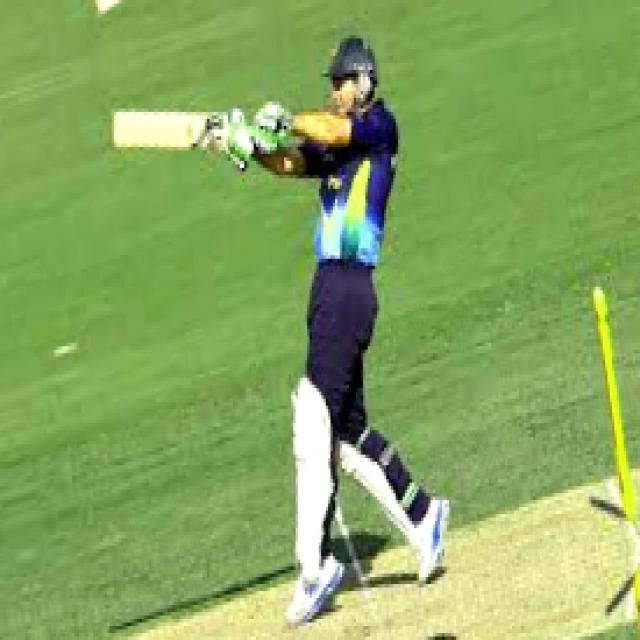toe: (113, 112, 119, 150)
